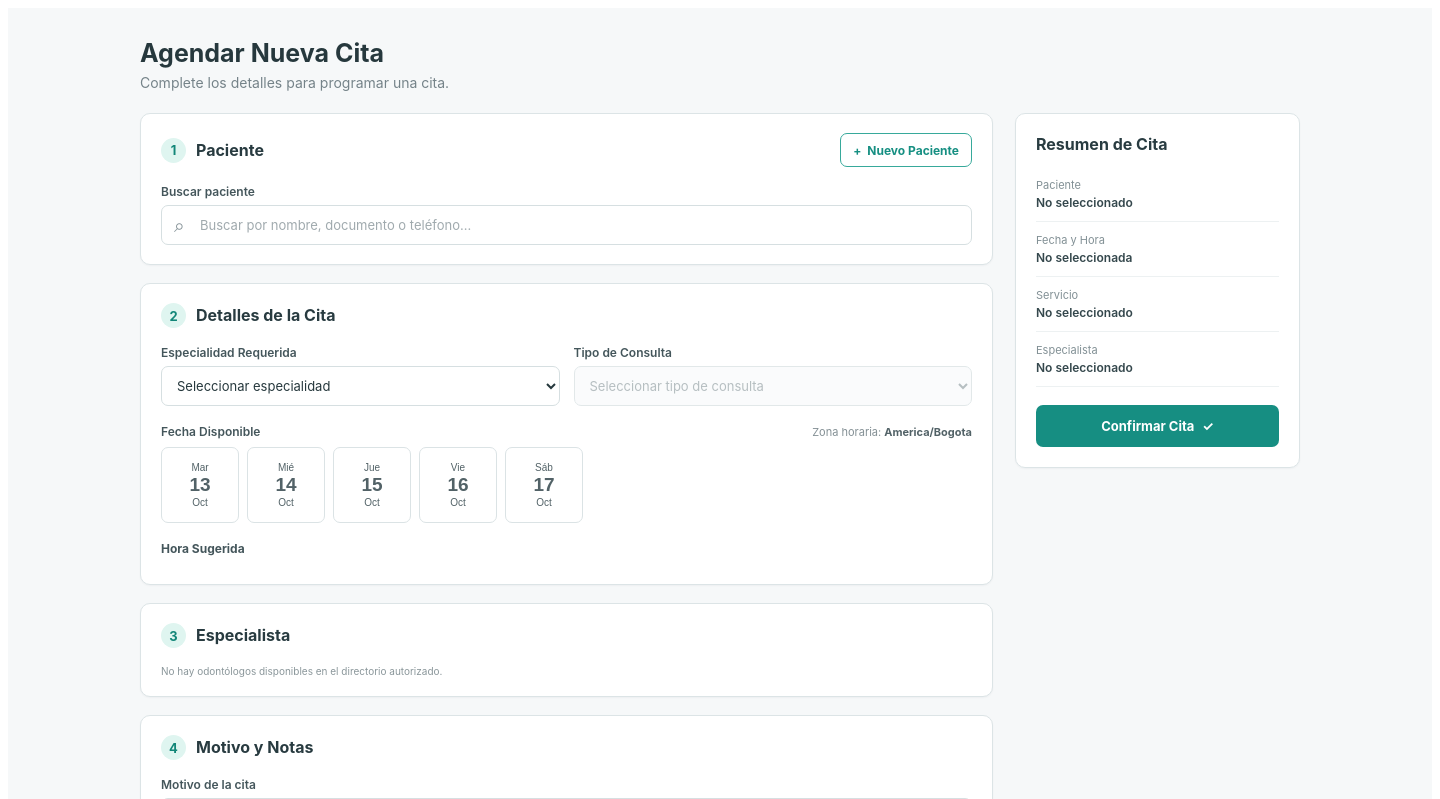
Test: SchedulingPageComponent › shows loading feedback while patient search is pending
The width and height of the screenshot is (1440, 799).
Type "Ana" into the search field labelled "Buscar paciente" at (566, 225), box 161,205 -> 972,245
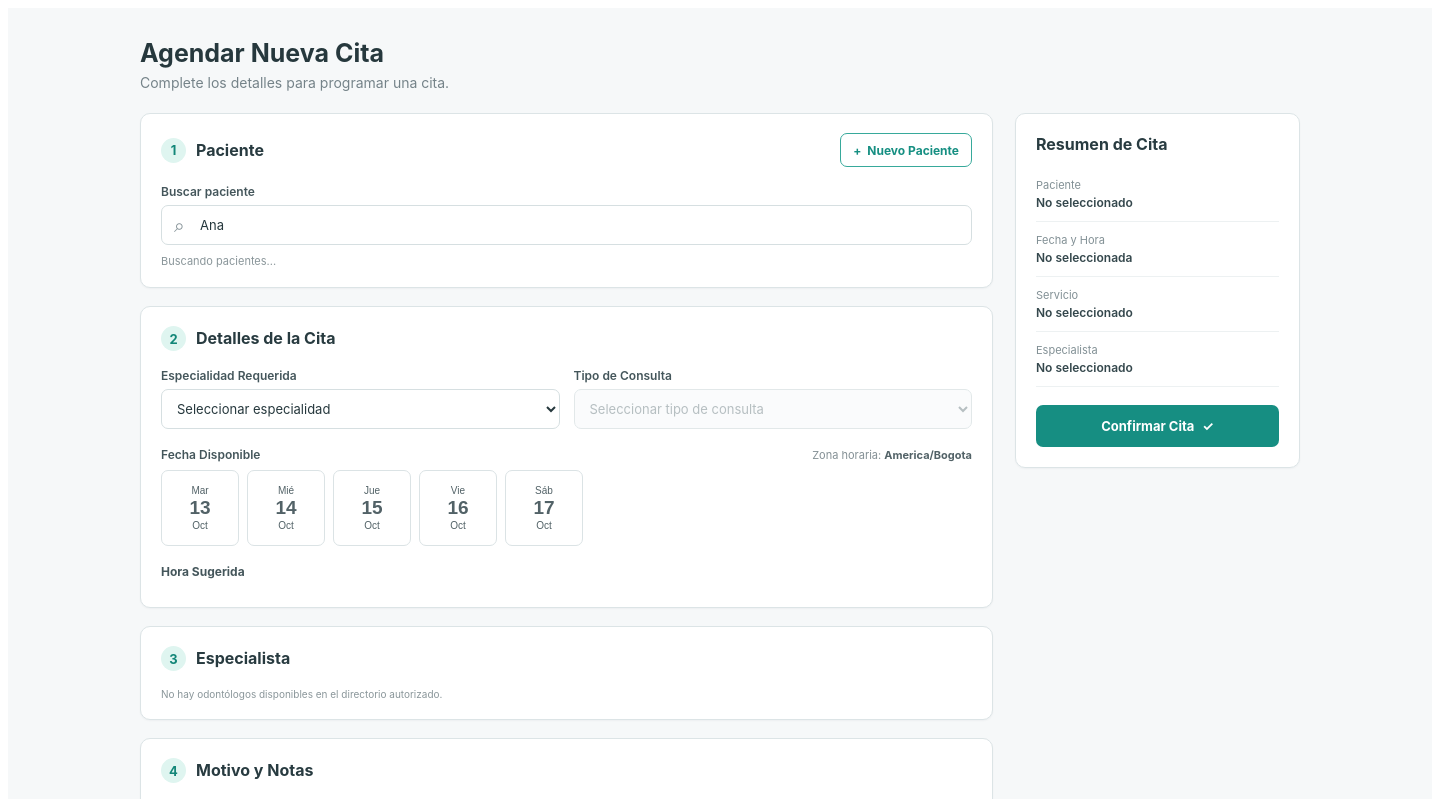
Now the text "Buscando pacientes..." is shown, box 161,254 -> 276,268
